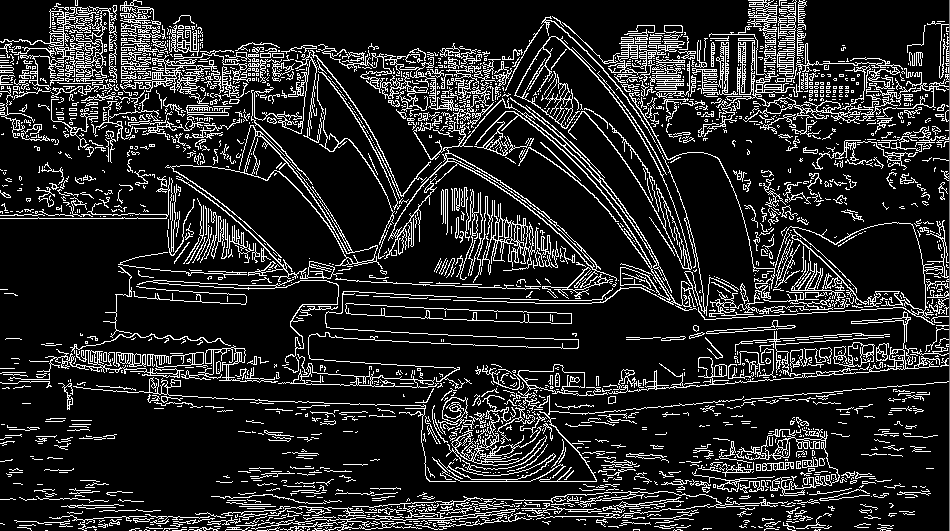opera house: (119, 36, 914, 362)
